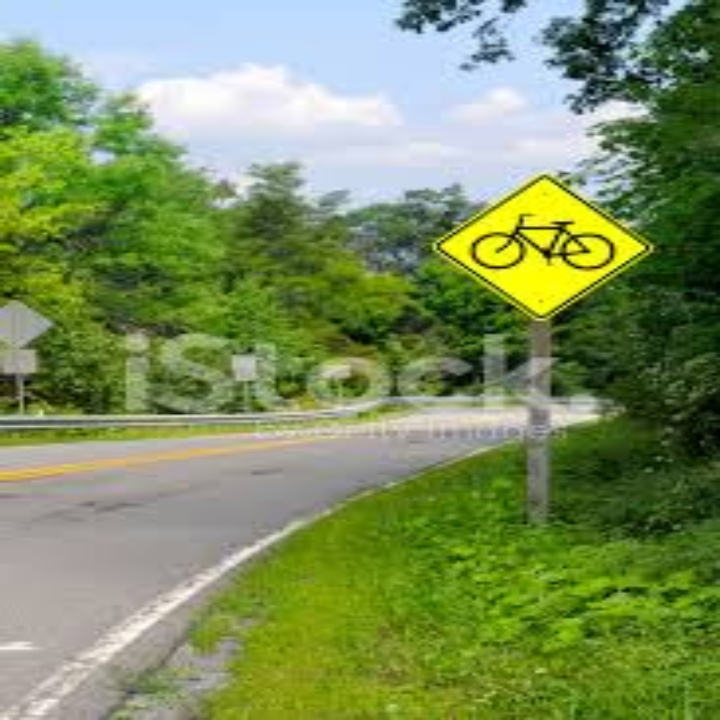bicycle: (468, 211, 614, 278)
